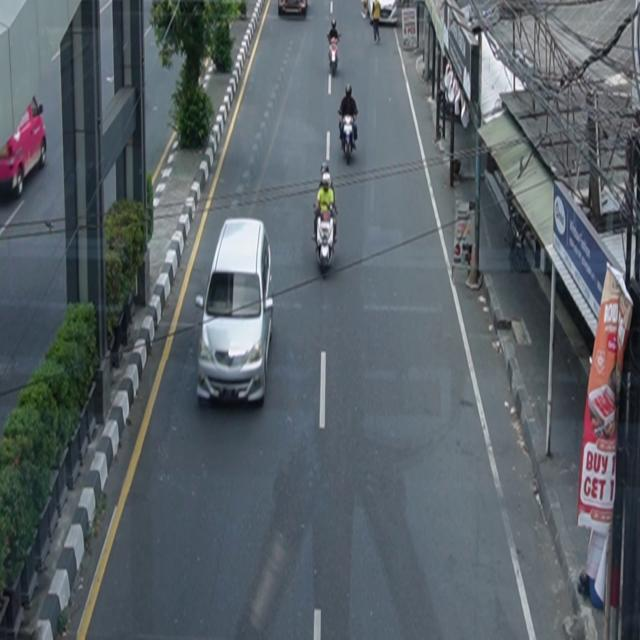car: (196, 217, 274, 409), (1, 95, 48, 200), (278, 1, 308, 16)
